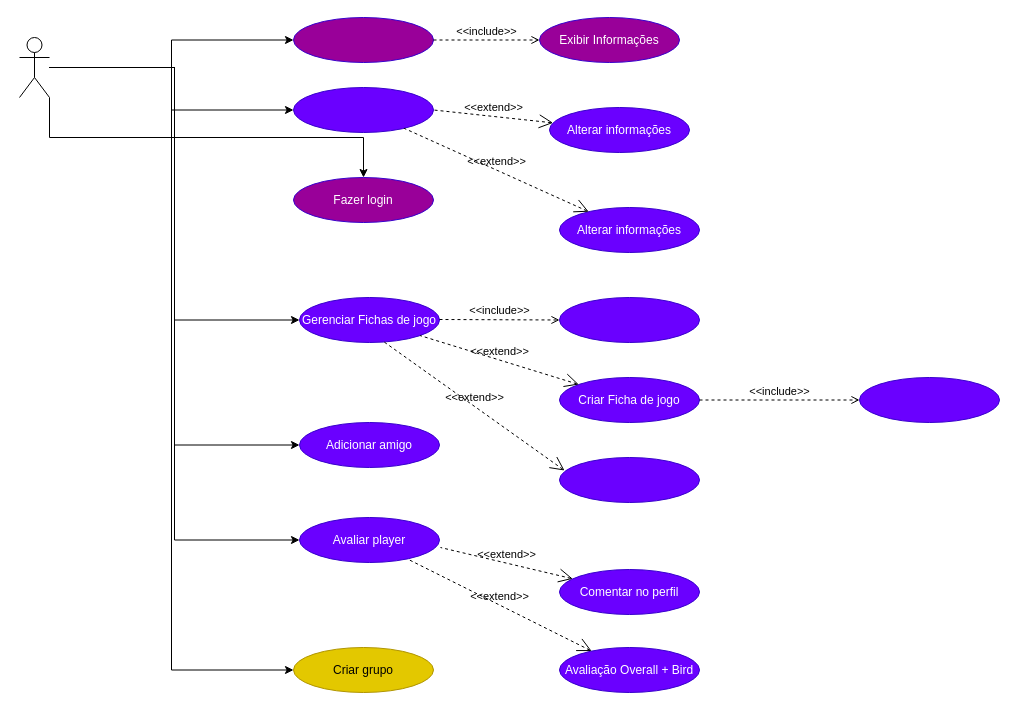
Image size: 1017x710. Some labels were removed from this diagram. Here are the shapes that lost their labels. From the top down, the centre of each, then its label:
At pixel 363 39: "Criar conta".
At pixel 34 67: "Player".
At pixel 363 109: "Gerenciar conta".
At pixel 629 319: "Exibir Fichas".
At pixel 929 399: "Selecionar jogo".
At pixel 629 479: "Excluir Ficha de jogo".
